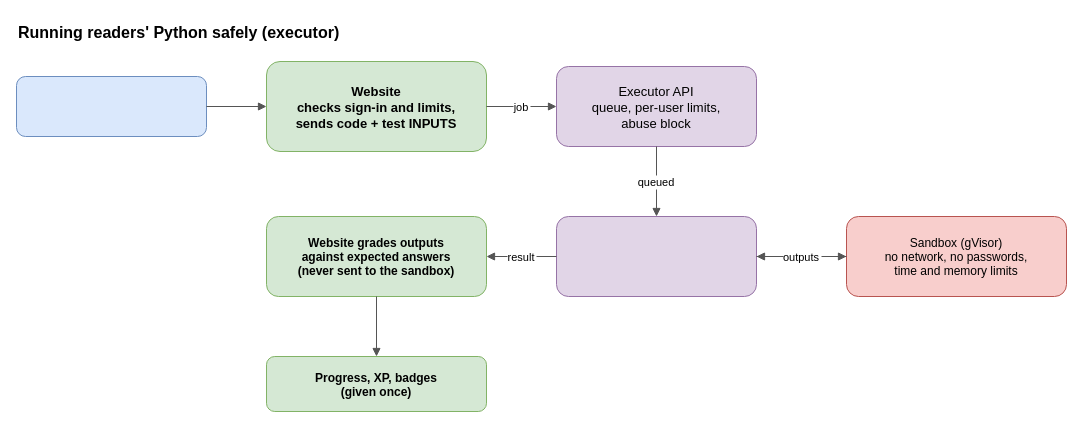
This 1083x428 diagram has some shape labels left out. The shapes that lost their labels are listed below. From the top down, each one's centre as x and y in pixels, then its label:
At point 111,106: "Reader presses Run on /python-practice".
At point 656,256: "Dispatcher starts one sandbox per job, reads result, deletes it".
